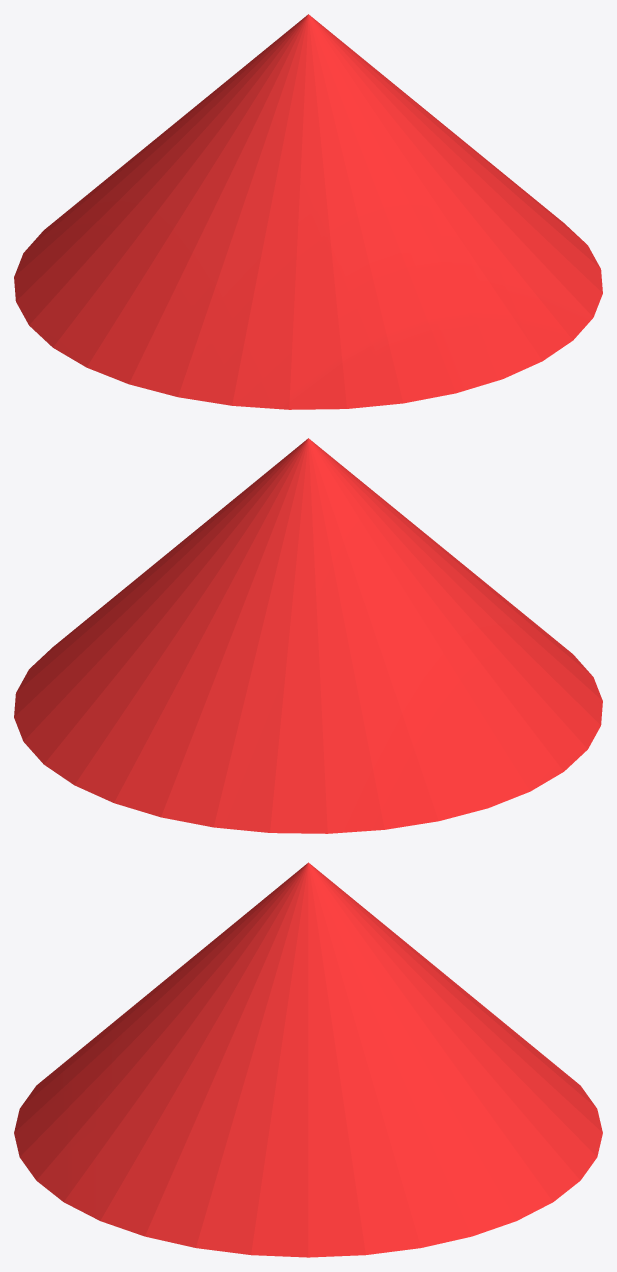
Rendered from needle.obj.
3 renders of one model, top to bottom at view 1: azimuth 30°, elevation 25°; view 2: azimuth 150°, elevation 25°; view 3: azimuth 270°, elevation 25°, orthographic.
Parts seen in each view (by area): view 1: 円錐; view 2: 円錐; view 3: 円錐.
Part boxes in pixels (left/top/right/bottom): 円錐: left=14, top=14, right=602, bottom=409; 円錐: left=14, top=438, right=602, bottom=833; 円錐: left=14, top=862, right=602, bottom=1257.
Bounding box in the file's own units: 2 × 1.01 × 2.
Materials: 1 (1 with a texture image).
